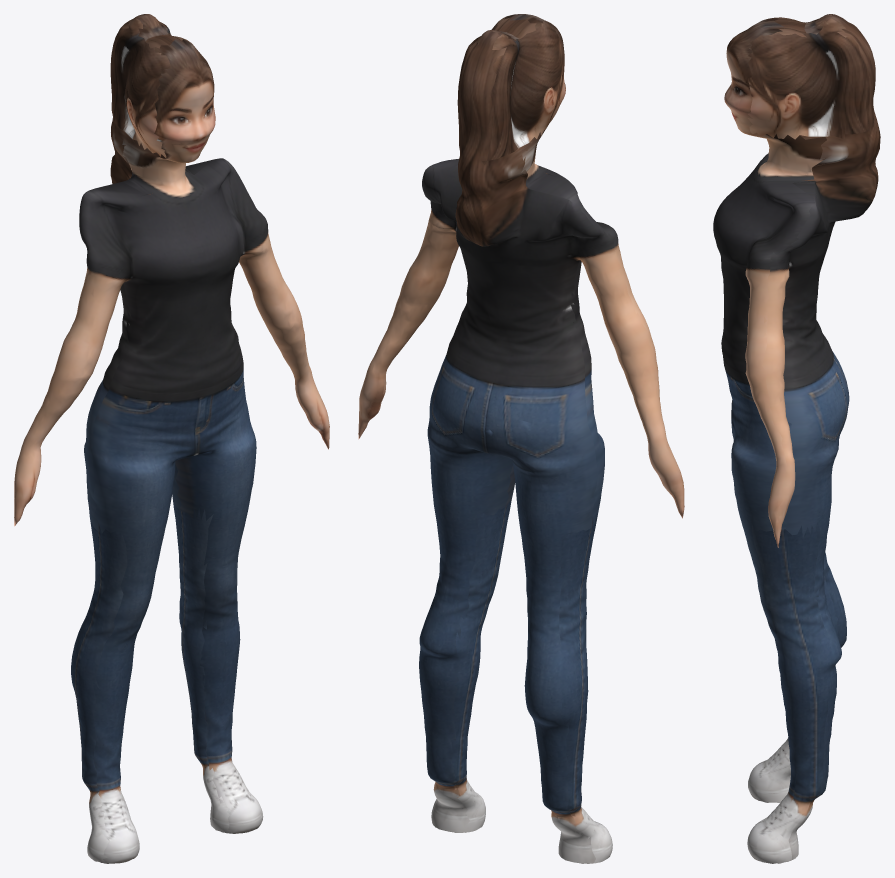
Rendered from female_player.glb.
3 views of the same model, side by side, from view 1: azimuth 30°, elevation 25°; view 2: azimuth 150°, elevation 25°; view 3: azimuth 270°, elevation 25° (orthographic). The views are drawn at different scales.
Parts seen in each view (by area): view 1: Alice; view 2: Alice; view 3: Alice.
Part boxes in pixels (box(x1,y1,x2,y2)): Alice: box(14, 14, 329, 863); Alice: box(358, 14, 684, 863); Alice: box(713, 14, 880, 863).
Bounding box in the file's own units: 0.7067 × 1.72 × 0.3232.
Materials: 1 (1 with a texture image).
